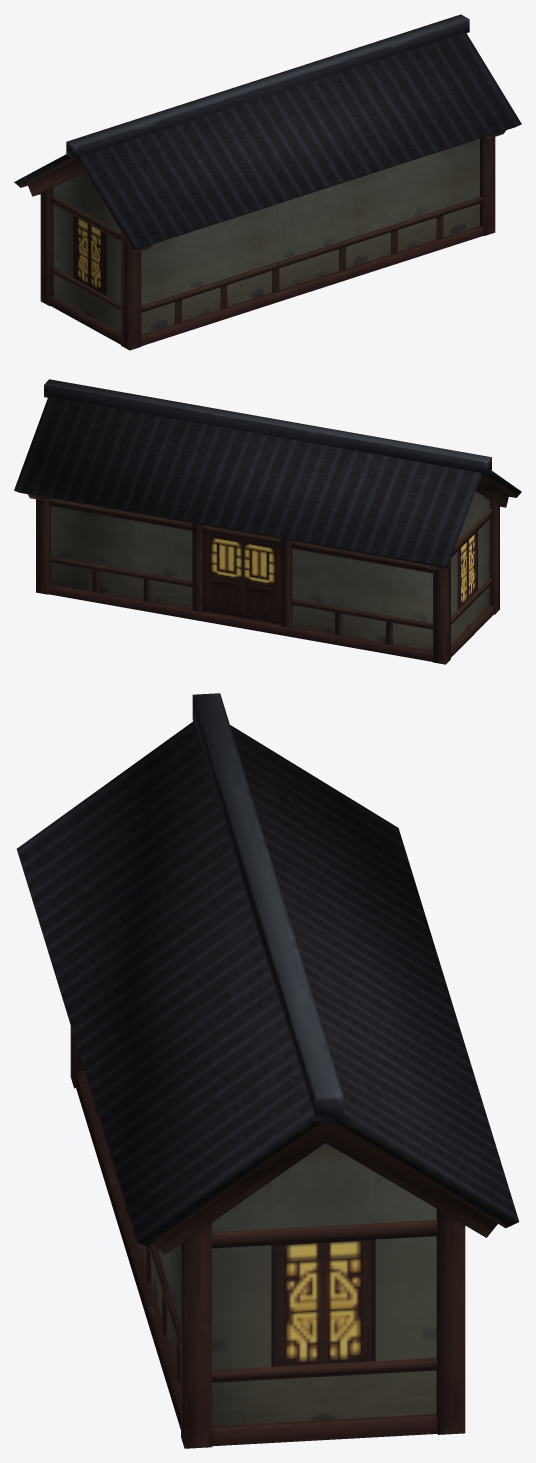
File: Area_14_20.fbx
The picture shows the model from 3 angles, top to bottom: view 1: azimuth 30°, elevation 25°; view 2: azimuth 150°, elevation 25°; view 3: azimuth 270°, elevation 25°; orthographic projection. The views are drawn at different scales.
Visible parts, largest first — view 1: Area_14_20; view 2: Area_14_20; view 3: Area_14_20.
Boxes of the visible parts, x1,y1,x2,y2 form: Area_14_20: [14, 14, 521, 350]; Area_14_20: [14, 379, 521, 664]; Area_14_20: [16, 693, 519, 1448].
Size of the model in its own units: 2113 by 855 by 1082.
